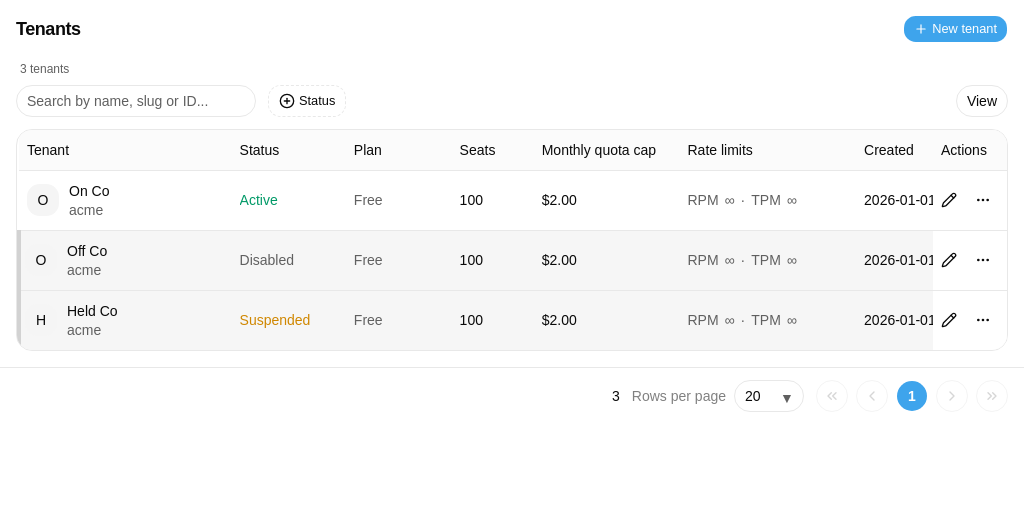
Scenario: AdminTenantsPage list › a disabled tenant offers enable, an active one disable, a suspended one no suspend
The width and height of the screenshot is (1024, 518).
Click the button named "Open menu" in the row of "On Co" at [983, 200], box [967,184,999,216]
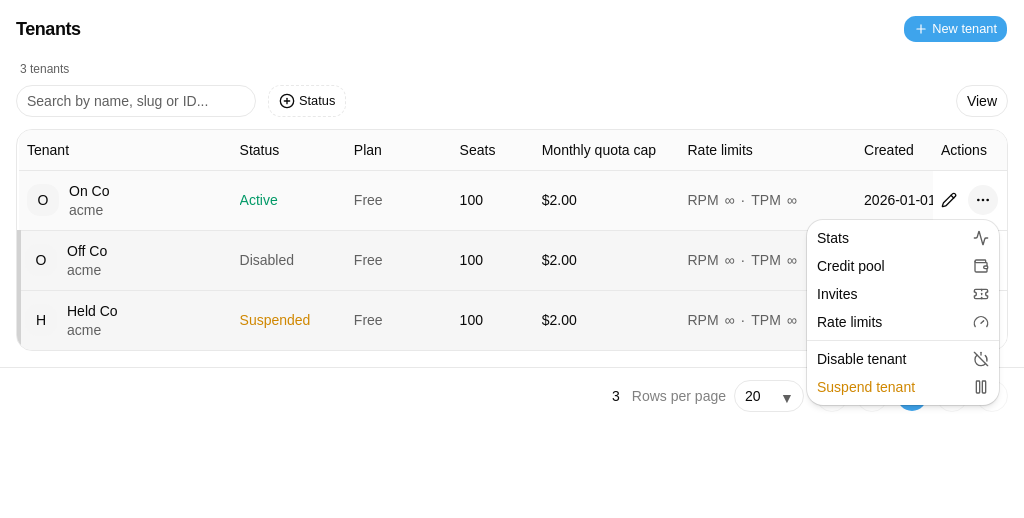
Check: the menu item "Enable tenant" is not shown
Check: the menu item "Disable tenant" is shown, box [817,351,989,367]
Check: the menu item "Suspend tenant" is shown, box [817,379,989,395]
Press Escape
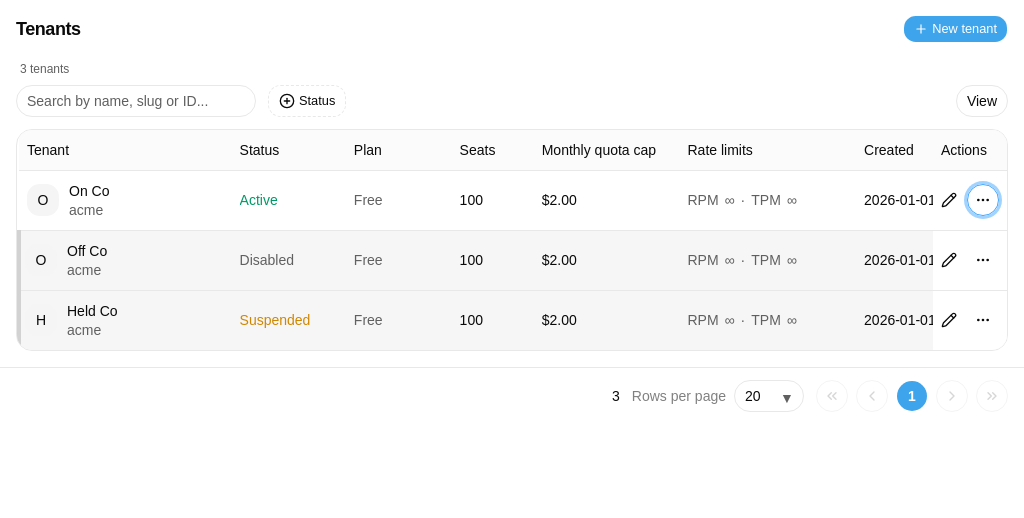
Click the button named "Open menu" in the row of "Off Co" at [983, 260], box [967,244,999,276]
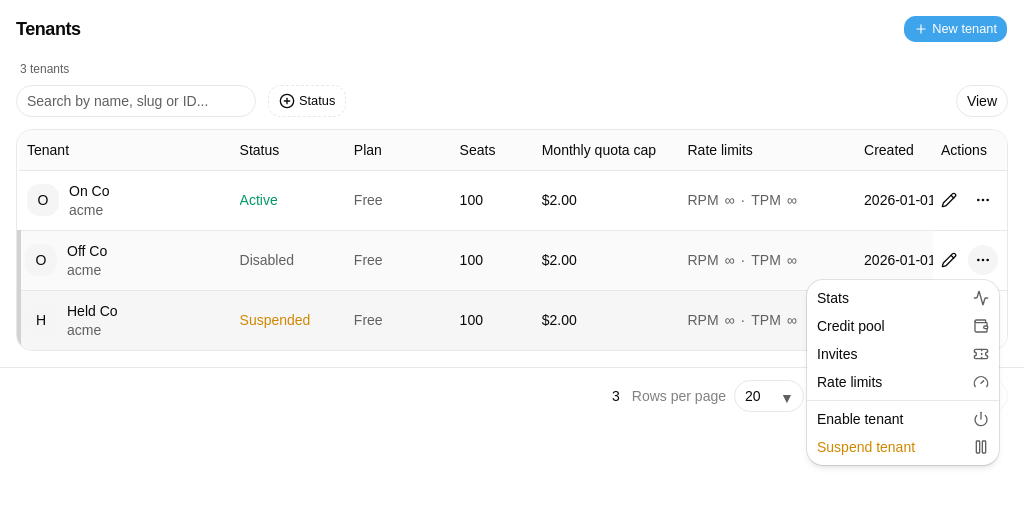
Check: the menu item "Enable tenant" is shown, box [817,411,989,427]
Press Escape
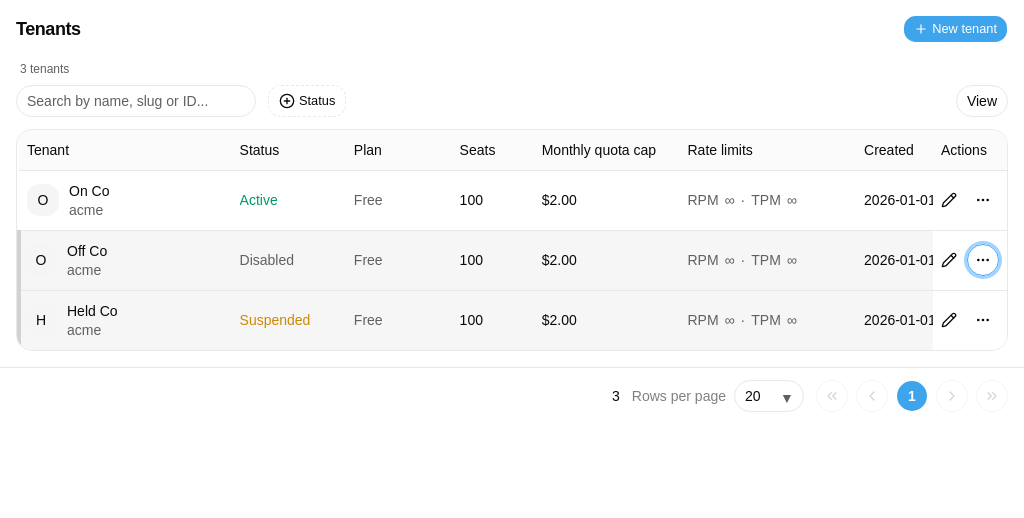
Click the button named "Open menu" in the row of "Held Co" at [983, 320], box [967,304,999,336]
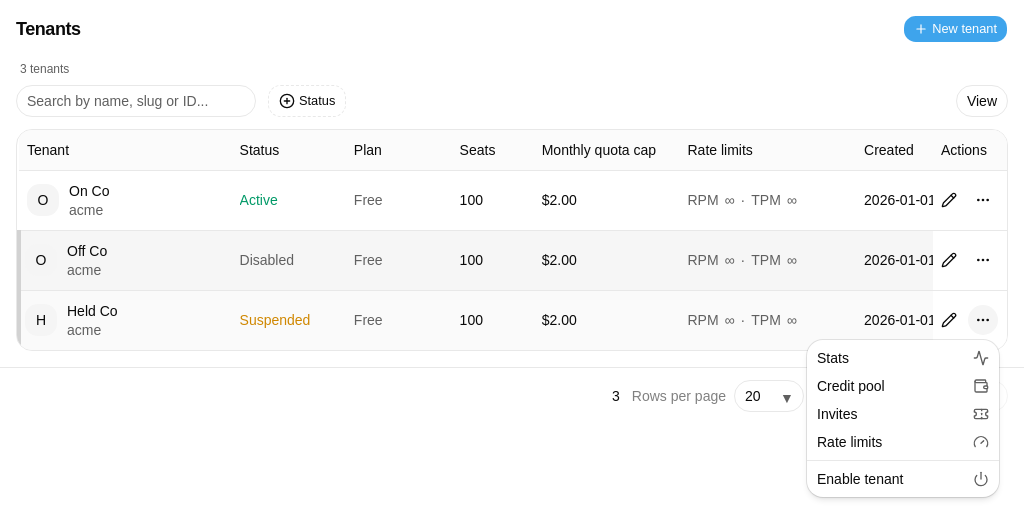
Check: the menu item "Suspend tenant" is not shown
Check: the menu item "Enable tenant" is shown, box [817,471,989,487]
